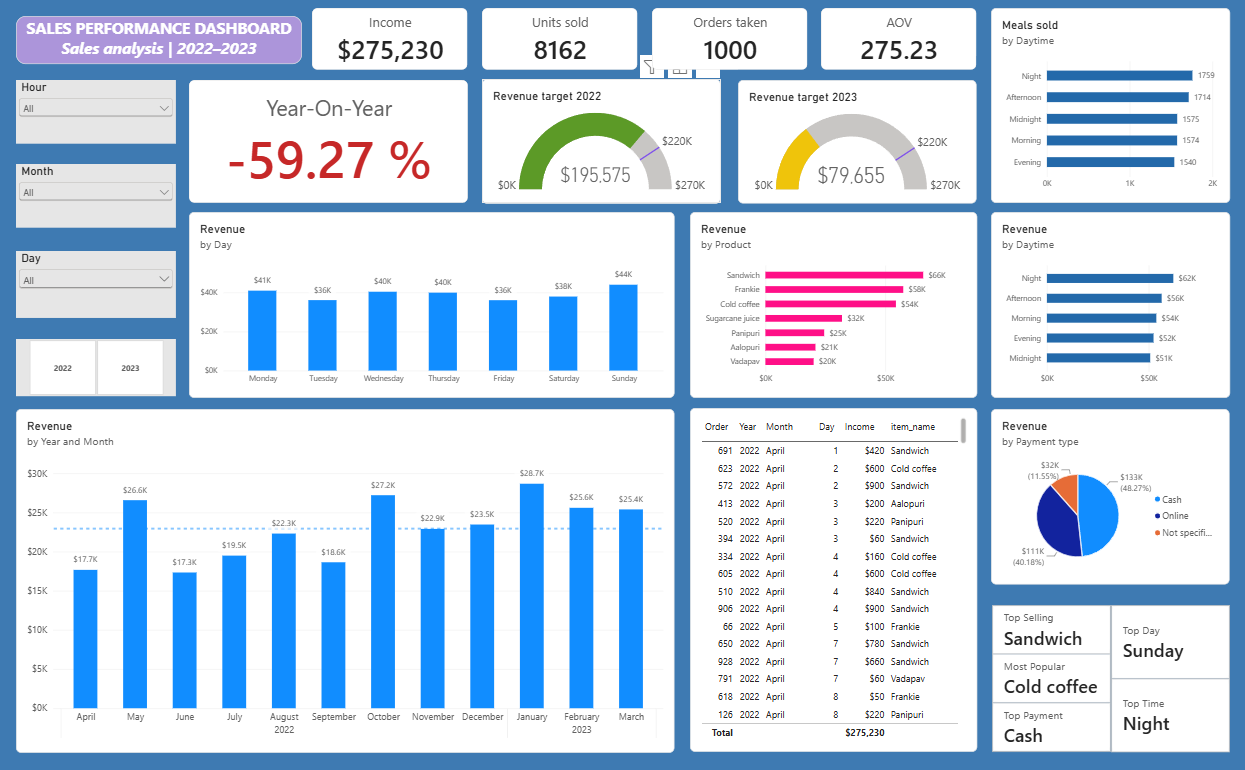

Layout of this report page (visuals, bound fields, positions):
{"tool":"powerbi","page":{"name":"Page 1","canvas":[1920,1190],"ordinal":0},"visuals":[{"type":"tableEx","fields":{"Values":["Balaji Fast Food Sales.order_id","Dim_Calendar.Date.Variation.Date Hierarchy.Year","Dim_Calendar.Date.Variation.Date Hierarchy.Month","Dim_Calendar.Date.Variation.Date Hierarchy.Day","Sum(Balaji Fast Food Sales.transaction_amount)","Dim_Item.item_name"]},"box":[1064.2,631.5,441.6,529.4],"z":0},{"type":"slicer","fields":{"Values":["Dim_Calendar.Día"]},"box":[27.7,389.2,246.2,103.1],"z":1000},{"type":"lineClusteredColumnComboChart","fields":{"Category":["Dim_Calendar.Date.Variation.Date Hierarchy.Year","Dim_Calendar.Date.Variation.Date Hierarchy.Month"],"Y":["Sum(Balaji Fast Food Sales.transaction_amount)"]},"box":[28.1,632.8,1013.5,529.4],"z":2000},{"type":"gauge","fields":{"Y":["Sum(Balaji Fast Food Sales.transaction_amount)"]},"box":[744.5,124.6,367.1,191.5],"z":3000},{"type":"gauge","fields":{"Y":["Sum(Balaji Fast Food Sales.transaction_amount)"]},"box":[1138.7,126,367.1,190.2],"z":4000},{"type":"clusteredBarChart","fields":{"Category":["Dim_Item.item_name"],"Y":["Sum(Balaji Fast Food Sales.transaction_amount)"]},"box":[1064.2,329.6,442.1,286],"z":5000},{"type":"clusteredBarChart","fields":{"Category":["Dim_time.time_of_sale"],"Y":["Sum(Balaji Fast Food Sales.transaction_amount)"]},"box":[1527,329.6,367.7,286],"z":6000},{"type":"lineStackedColumnComboChart","fields":{"Category":["Dim_Calendar.Día"],"Y":["Sum(Balaji Fast Food Sales.transaction_amount)"]},"box":[294.1,329.6,747,286],"z":7000},{"type":"slicer","fields":{"Values":["Dim_Calendar.Mes"]},"box":[27.7,255.4,246.2,98.5],"z":8000},{"type":"slicer","fields":{"Values":["Dim_Calendar.#Año"]},"box":[27.7,524.6,246.2,87.7],"z":9000},{"type":"cardVisual","fields":{"Data":["Calculations.TopItem_Income","Calculations.TopItem_Popular","Calculations.TopPayment"]},"box":[1528.5,933.5,183.2,228.6],"z":10000},{"type":"pieChart","fields":{"Category":["Dim_payment.transaction_type"],"Y":["Sum(Balaji Fast Food Sales.transaction_amount)"]},"box":[1527,632.8,367.1,270],"z":11000},{"type":"cardVisual","fields":{"Data":["Sum(Balaji Fast Food Sales.transaction_amount)"]},"box":[483.1,15.4,239.4,95.8],"z":12000},{"type":"cardVisual","fields":{"Data":["Sum(Balaji Fast Food Sales.quantity)"]},"box":[744.6,15.4,239.4,95.8],"z":13000},{"type":"cardVisual","fields":{"Data":["CountNonNull(Balaji Fast Food Sales.order_id)"]},"box":[1006.2,15.4,239.4,95.8],"z":14000},{"type":"cardVisual","fields":{"Data":["Calculations.AvgTicket"]},"box":[1266.2,16.1,239.4,95.8],"z":15000},{"type":"cardVisual","fields":{"Data":["Calculations.TopDay_I","Calculations.TopTime"]},"box":[1711.7,933.5,183.2,227.2],"z":16000},{"type":"clusteredBarChart","fields":{"Category":["Dim_time.time_of_sale"],"Y":["Sum(Balaji Fast Food Sales.quantity)"]},"box":[1527.1,16.1,367.8,300.4],"z":17000},{"type":"textbox","box":[27.7,27.7,440,73.8],"z":18000},{"type":"slicer","fields":{"Values":["Dim_time.time_of_sale"]},"box":[27.7,126.2,246.2,98.5],"z":19000},{"type":"cardVisual","fields":{"Data":["Calculations.YoY"]},"box":[293.8,126.2,429.2,189.2],"z":20000}]}

Visuals, with their boxes in screenshot pixels (x1, y1, x2, y2), scaled from the page's 1920x1190 canvas onto the 1245x770 screenshot:
tableEx - Balaji Fast Food Sales.order_id x Dim_Calendar.Date.Variation.Date Hierarchy.Year: (690, 409, 976, 751)
slicer - Dim_Calendar.Día: (18, 252, 178, 319)
lineClusteredColumnComboChart - Dim_Calendar.Date.Variation.Date Hierarchy.Year x Dim_Calendar.Date.Variation.Date Hierarchy.Month: (18, 409, 675, 752)
gauge - Sum(Balaji Fast Food Sales.transaction_amount): (483, 81, 721, 205)
gauge - Sum(Balaji Fast Food Sales.transaction_amount): (738, 82, 976, 205)
clusteredBarChart - Dim_Item.item_name x Sum(Balaji Fast Food Sales.transaction_amount): (690, 213, 977, 398)
clusteredBarChart - Dim_time.time_of_sale x Sum(Balaji Fast Food Sales.transaction_amount): (990, 213, 1229, 398)
lineStackedColumnComboChart - Dim_Calendar.Día x Sum(Balaji Fast Food Sales.transaction_amount): (191, 213, 675, 398)
slicer - Dim_Calendar.Mes: (18, 165, 178, 229)
slicer - Dim_Calendar.#Año: (18, 339, 178, 396)
cardVisual - Calculations.TopItem_Income x Calculations.TopItem_Popular: (991, 604, 1110, 752)
pieChart - Dim_payment.transaction_type x Sum(Balaji Fast Food Sales.transaction_amount): (990, 409, 1228, 584)
cardVisual - Sum(Balaji Fast Food Sales.transaction_amount): (313, 10, 468, 72)
cardVisual - Sum(Balaji Fast Food Sales.quantity): (483, 10, 638, 72)
cardVisual - CountNonNull(Balaji Fast Food Sales.order_id): (652, 10, 808, 72)
cardVisual - Calculations.AvgTicket: (821, 10, 976, 72)
cardVisual - Calculations.TopDay_I x Calculations.TopTime: (1110, 604, 1229, 751)
clusteredBarChart - Dim_time.time_of_sale x Sum(Balaji Fast Food Sales.quantity): (990, 10, 1229, 205)
textbox: (18, 18, 303, 66)
slicer - Dim_time.time_of_sale: (18, 82, 178, 145)
cardVisual - Calculations.YoY: (191, 82, 469, 204)
